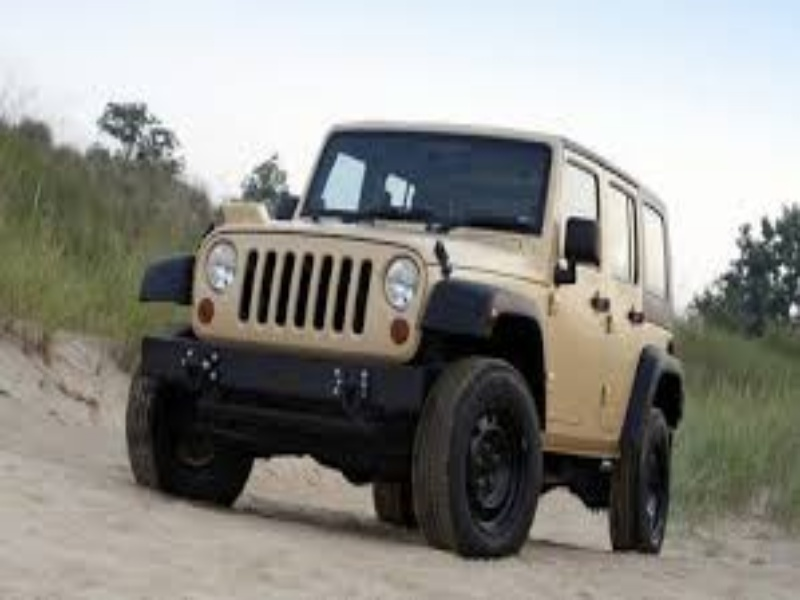jeep: (123, 120, 692, 565)
